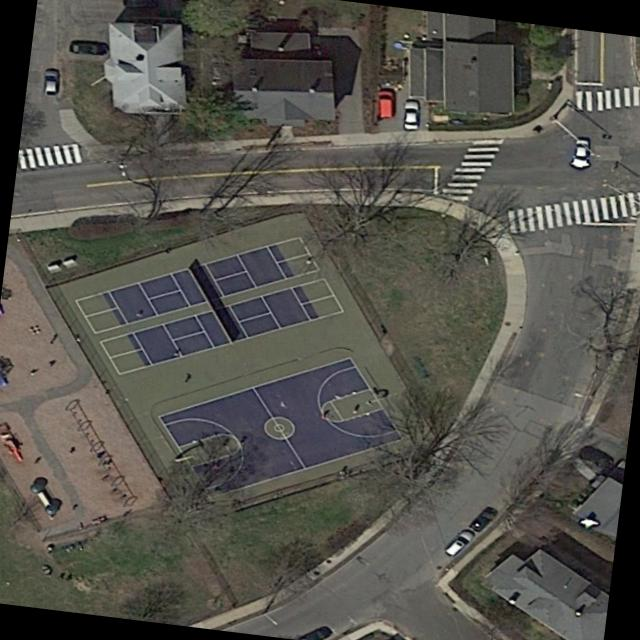small-vehicle: (441, 529, 478, 558), (468, 505, 501, 534), (569, 137, 594, 169), (67, 39, 108, 57), (376, 89, 397, 120), (401, 100, 420, 131), (41, 69, 59, 96)
